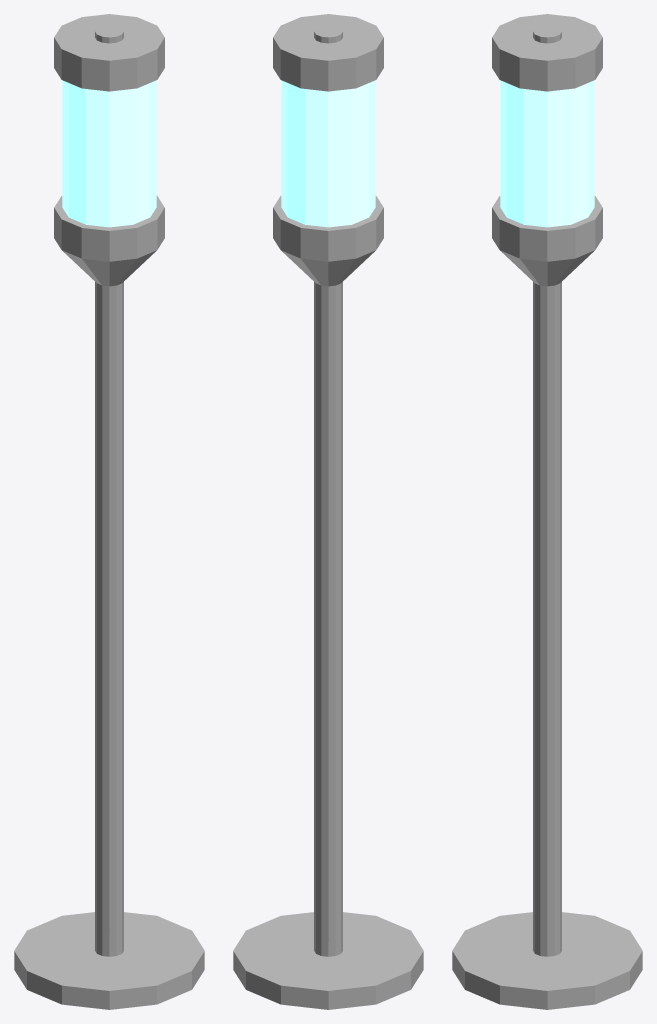
Rendered from dark-flag.glb.
3 views of the same model, side by side, from view 1: azimuth 30°, elevation 25°; view 2: azimuth 150°, elevation 25°; view 3: azimuth 270°, elevation 25° (orthographic).
Parts seen in each view (by area): view 1: Circle.001; view 2: Circle.001; view 3: Circle.001.
Boxes of the visible parts, x1,y1,x2,y2 form: Circle.001: [14, 14, 204, 1009]; Circle.001: [233, 14, 423, 1009]; Circle.001: [452, 14, 642, 1009].
Bounding box in the file's own units: 1.4 × 7.59 × 1.4.
